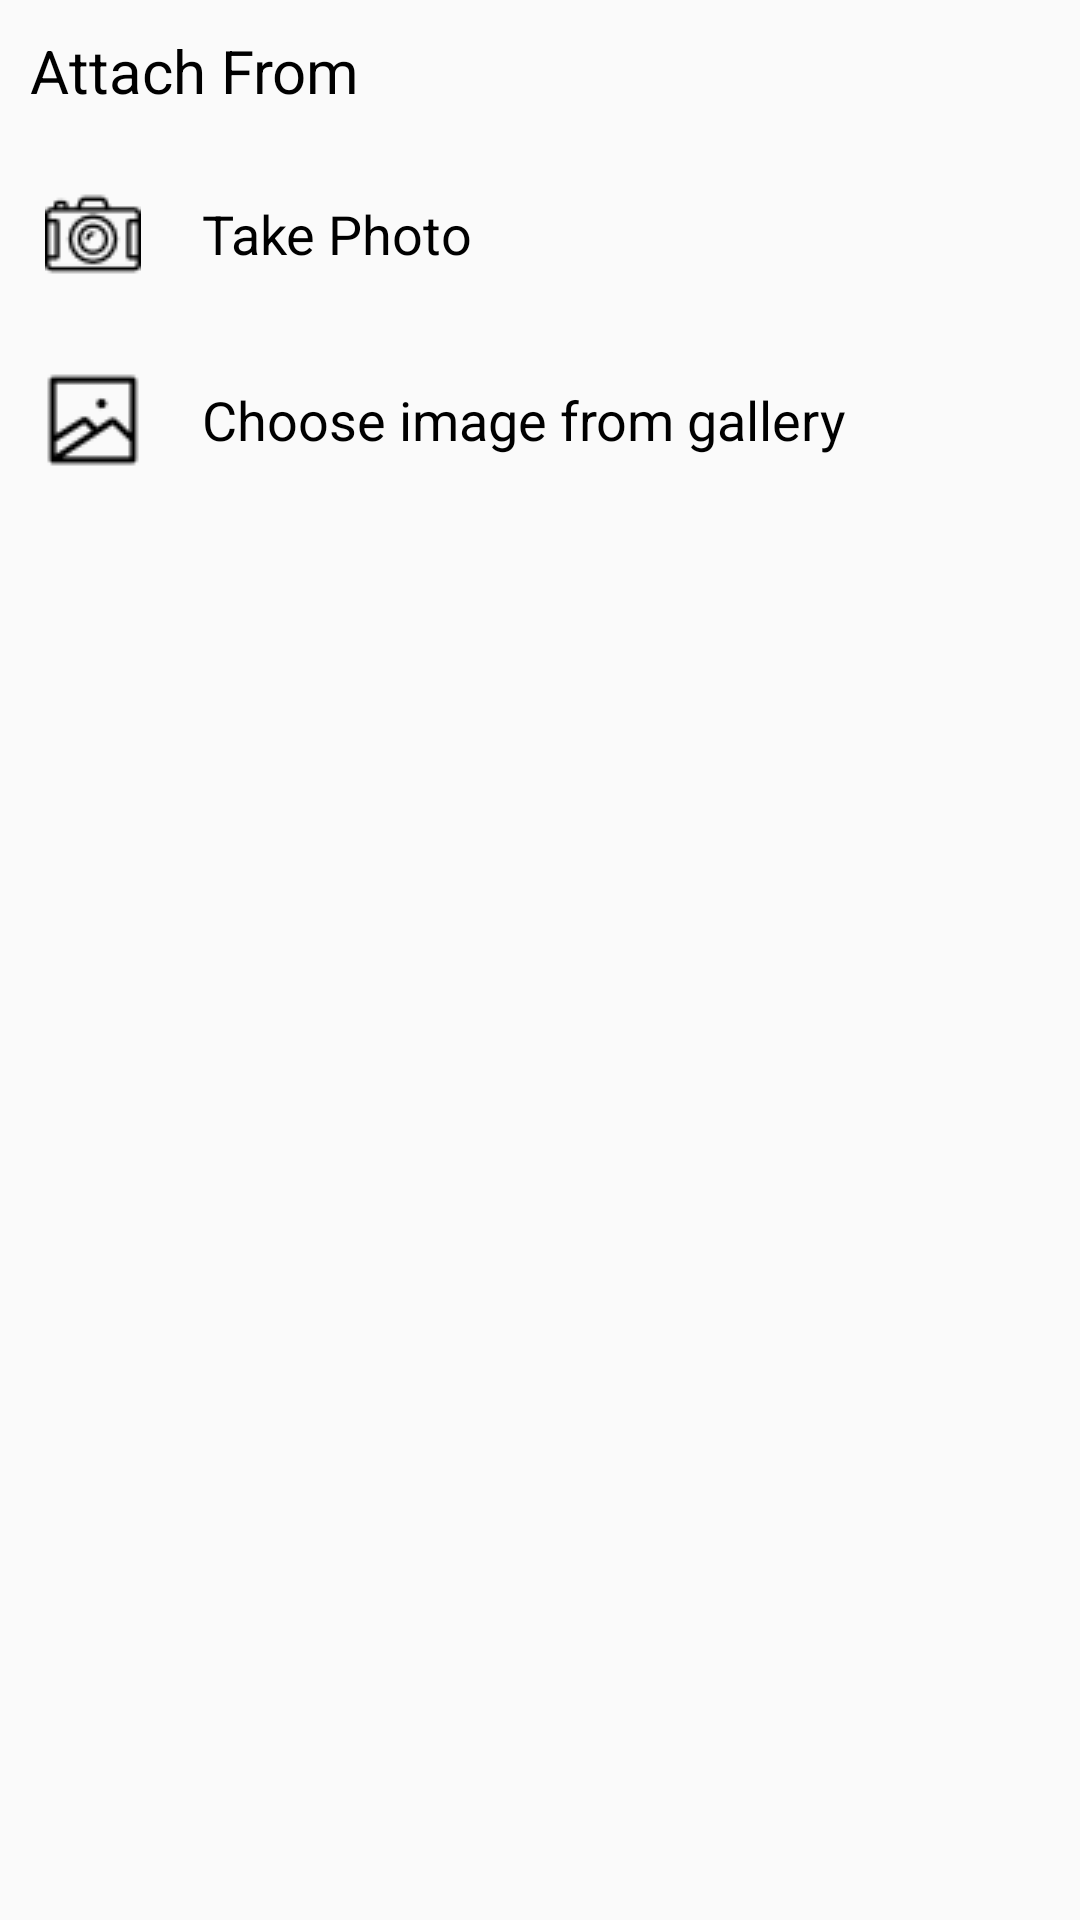

Icons on this 1080 x 1920 Android screen, each with its box as (x1, y1, x2, y2):
open camera: (45, 194, 141, 274)
open gallery: (47, 374, 139, 466)
